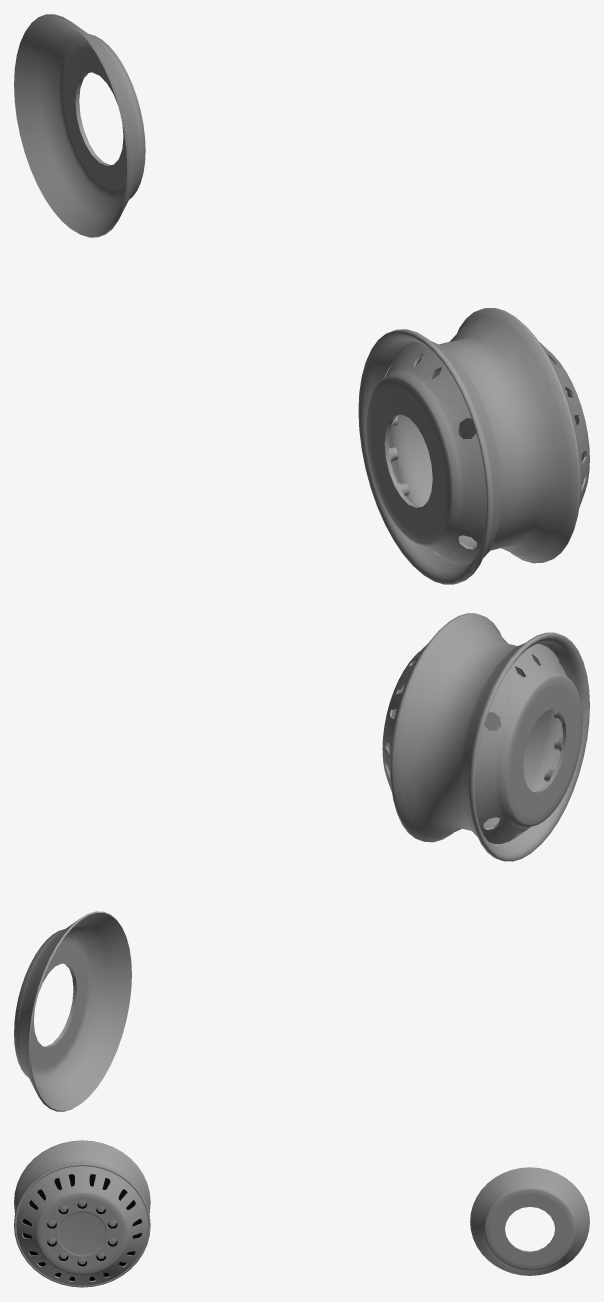
The model's file is commercialwheels_asianspec.dae.
3 renders of one model, top to bottom at view 1: azimuth 30°, elevation 25°; view 2: azimuth 150°, elevation 25°; view 3: azimuth 270°, elevation 25°, orthographic. The views are drawn at different scales.
Parts seen in each view (by area): view 1: commalloy_asi_base_01a_22x10, commalloy_asi_n_01a_22x_10, commalloy_asi_8_01a_22x10_outer, commalloy_asi_10_01a_22x10_outer, commalloy_asi_6_01a_22x10_outer, wheelcover_daewon_02a; view 2: commalloy_asi_base_01a_22x10, commalloy_asi_n_01a_22x_10, commalloy_asi_8_01a_22x10_outer, commalloy_asi_6_01a_22x10_outer, commalloy_asi_10_01a_22x10_outer, wheelcover_daewon_02a; view 3: wheelcover_daewon_02a, commalloy_asi_n_01a_22x_10, commalloy_asi_base_01a_22x10, wheelcover_daewon_01a, wheelcover_shade, commalloy_asi_bolts_01a_22x10.
Boxes of the visible parts, left/top/right/bottom form: commalloy_asi_base_01a_22x10: left=358, top=308, right=581, bottom=584; commalloy_asi_n_01a_22x_10: left=14, top=14, right=145, bottom=237; commalloy_asi_8_01a_22x10_outer: left=366, top=343, right=486, bottom=562; commalloy_asi_10_01a_22x10_outer: left=366, top=342, right=486, bottom=565; commalloy_asi_6_01a_22x10_outer: left=366, top=342, right=486, bottom=565; wheelcover_daewon_02a: left=540, top=343, right=589, bottom=506; commalloy_asi_base_01a_22x10: left=390, top=613, right=589, bottom=861; commalloy_asi_n_01a_22x_10: left=14, top=911, right=131, bottom=1111; commalloy_asi_8_01a_22x10_outer: left=475, top=650, right=582, bottom=839; commalloy_asi_6_01a_22x10_outer: left=474, top=644, right=582, bottom=843; commalloy_asi_10_01a_22x10_outer: left=474, top=644, right=582, bottom=843; wheelcover_daewon_02a: left=382, top=645, right=426, bottom=791; wheelcover_daewon_02a: left=17, top=1166, right=146, bottom=1285; commalloy_asi_n_01a_22x_10: left=470, top=1167, right=589, bottom=1275; commalloy_asi_base_01a_22x10: left=14, top=1140, right=150, bottom=1287; wheelcover_daewon_01a: left=16, top=1167, right=148, bottom=1285; wheelcover_shade: left=23, top=1174, right=141, bottom=1280; commalloy_asi_bolts_01a_22x10: left=47, top=1200, right=116, bottom=1264.
Size of the model in its own units: 0.3752 by 2.57 by 0.6105.
Materials: 4 (1 with a texture image).
